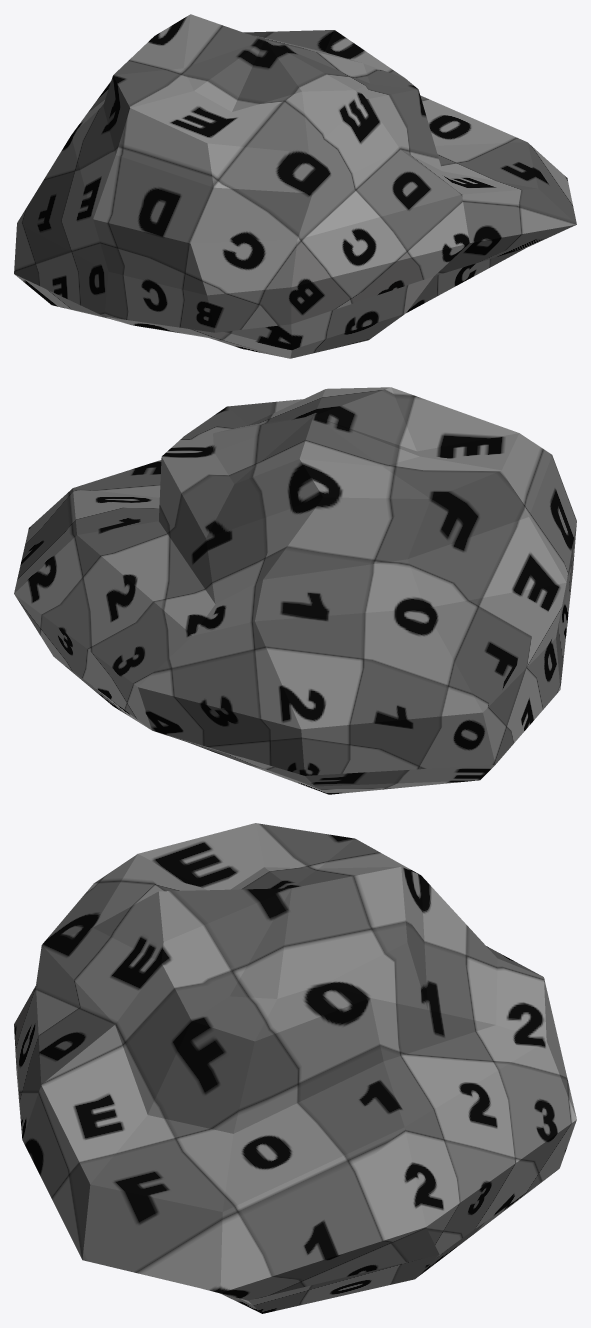
File: Rock2.fbx
The picture shows the model from 3 angles, top to bottom: view 1: azimuth 30°, elevation 25°; view 2: azimuth 150°, elevation 25°; view 3: azimuth 270°, elevation 25°; orthographic projection. The views are drawn at different scales.
Parts seen in each view (by area): view 1: Rock1; view 2: Rock1; view 3: Rock1.
Part boxes in pixels (x1,y1,x2,y2): Rock1: [14, 14, 576, 358]; Rock1: [14, 387, 576, 794]; Rock1: [14, 823, 576, 1313].
Size of the model in its own units: 8.64 by 5.05 by 6.92.
1 material, 1 textured.
